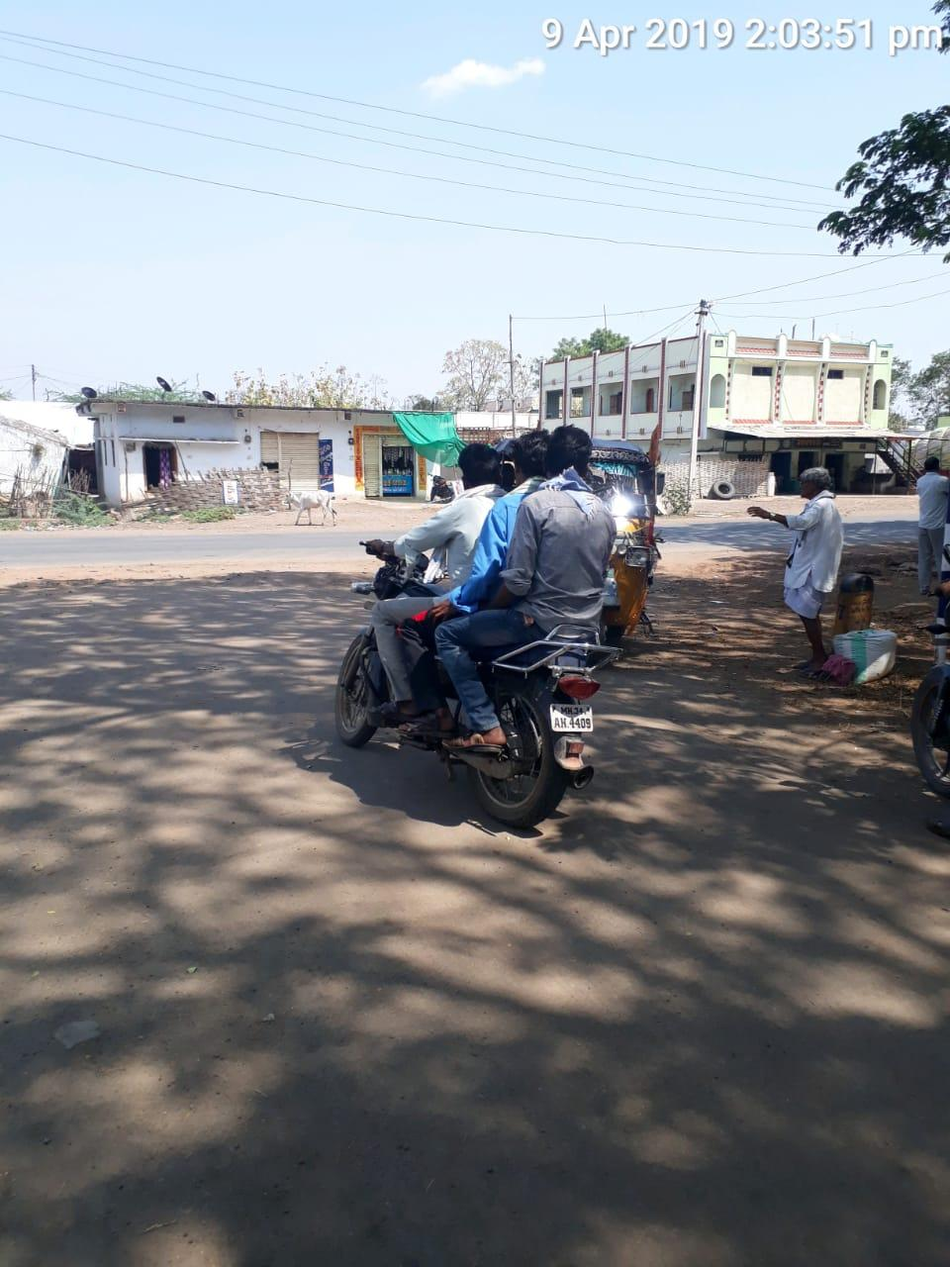plate: (540, 693, 598, 743)
